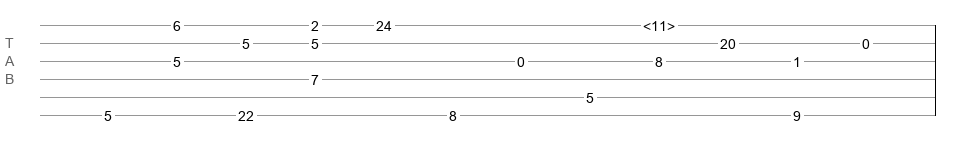0: (517, 54, 525, 64), (862, 36, 870, 46)
1: (793, 54, 801, 64)
2: (311, 18, 319, 28)
20: (720, 36, 736, 46)
22: (238, 108, 254, 118)
24: (376, 18, 392, 28)
5: (104, 108, 112, 118), (173, 54, 181, 64), (242, 36, 250, 46), (311, 36, 319, 46), (586, 90, 594, 100)
6: (173, 18, 181, 28)
7: (311, 72, 319, 82)
8: (449, 108, 457, 118), (655, 54, 663, 64)
9: (793, 108, 801, 118)
harmonic: (643, 18, 675, 28)
